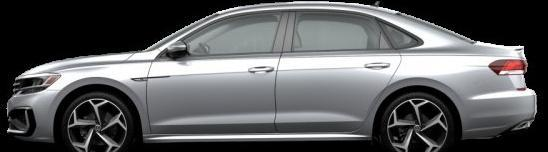Cars: (8, 3, 538, 152)
